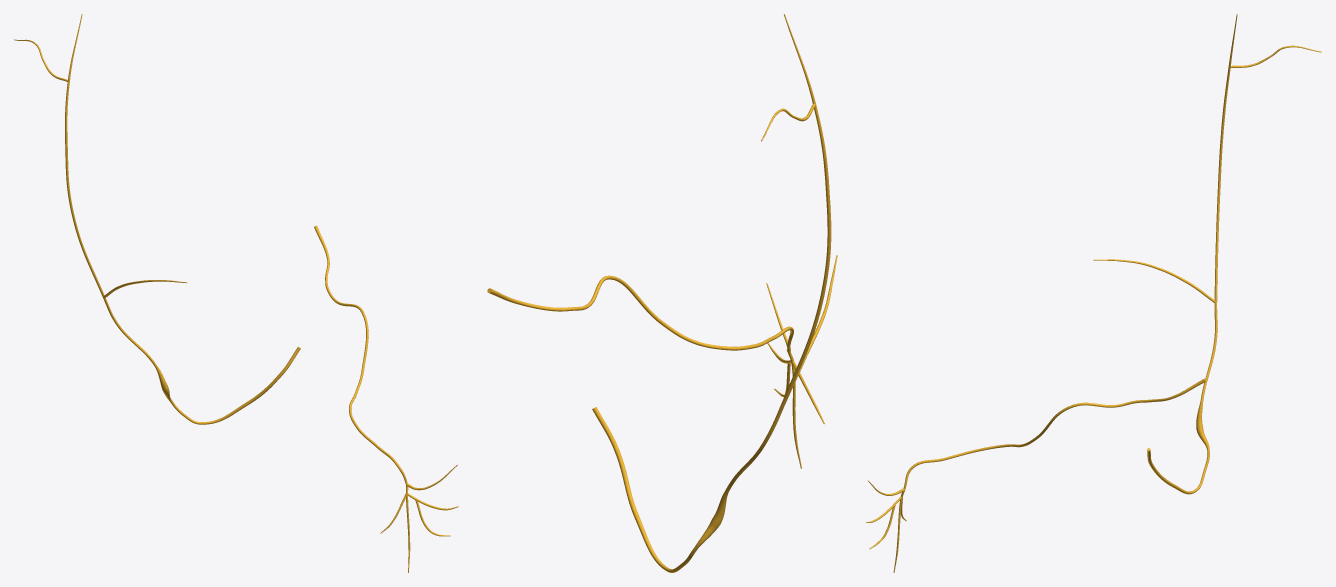
Rendered from nervoso-maxillary-nerve-r.glb.
3 views of the same model, side by side, from view 1: azimuth 30°, elevation 25°; view 2: azimuth 150°, elevation 25°; view 3: azimuth 270°, elevation 25° (orthographic). The views are drawn at different scales.
Parts seen in each view (by area): view 1: Meningeal branch of maxillary nerve.r, Maxillary nerve.r; view 2: Meningeal branch of maxillary nerve.r, Maxillary nerve.r; view 3: Meningeal branch of maxillary nerve.r, Maxillary nerve.r.
Part boxes in pixels (x1,y1,x2,y2): Meningeal branch of maxillary nerve.r: [14, 14, 300, 424]; Maxillary nerve.r: [314, 225, 458, 572]; Meningeal branch of maxillary nerve.r: [592, 14, 837, 572]; Maxillary nerve.r: [487, 275, 824, 468]; Meningeal branch of maxillary nerve.r: [1093, 14, 1321, 494]; Maxillary nerve.r: [866, 378, 1205, 572].
Bounding box in the file's own units: 0.0654 × 0.1205 × 0.1035.
